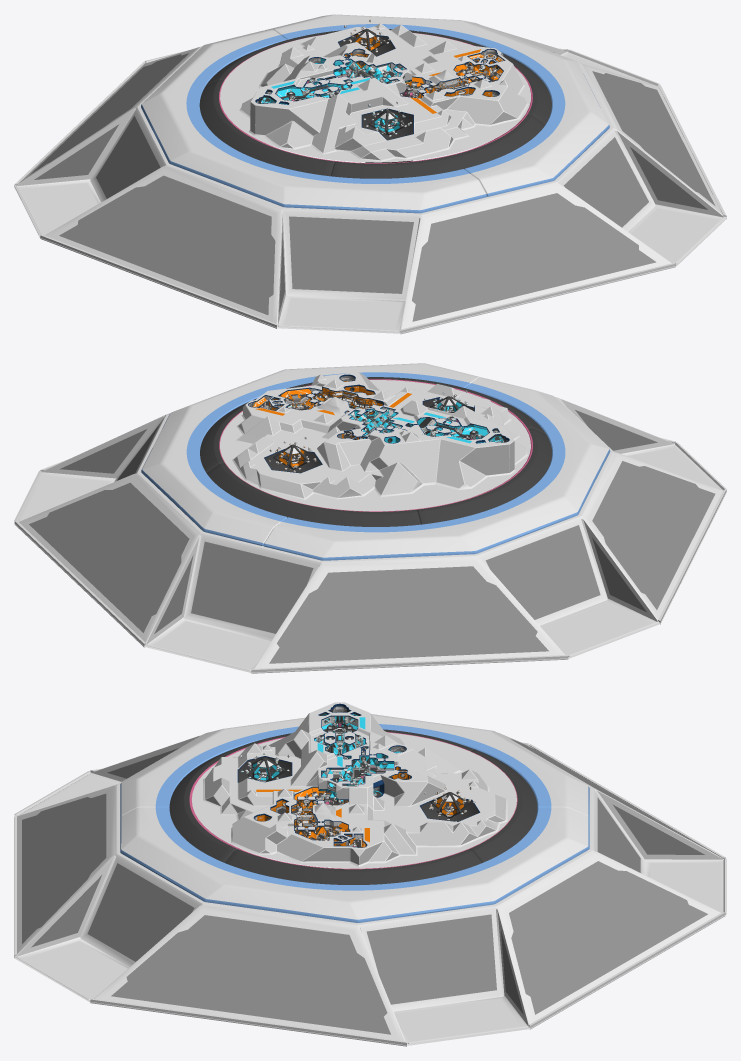
Rendered from Surge_Minimap.fbx.
The picture shows the model from 3 angles, top to bottom: view 1: azimuth 30°, elevation 25°; view 2: azimuth 150°, elevation 25°; view 3: azimuth 270°, elevation 25°; orthographic projection. The views are drawn at different scales.
Visible parts, largest first — view 1: 4, 6, 2, 64, 58, 66, 0, 3, 60, 69, 5, 65 (+6 smaller); view 2: 4, 6, 2, 64, 58, 3, 66, 0, 69, 60, 5, 65 (+5 smaller); view 3: 4, 6, 2, 58, 64, 3, 66, 0, 69, 60, 5, 65 (+5 smaller).
Part boxes in pixels (left/top/right/bottom): 4: left=29, top=52, right=715, bottom=321; 6: left=14, top=26, right=726, bottom=333; 2: left=142, top=14, right=608, bottom=210; 64: left=241, top=24, right=526, bottom=160; 58: left=220, top=26, right=530, bottom=162; 66: left=199, top=29, right=551, bottom=178; 0: left=141, top=24, right=609, bottom=213; 3: left=21, top=55, right=718, bottom=330; 60: left=14, top=48, right=726, bottom=334; 69: left=239, top=23, right=528, bottom=161; 5: left=137, top=46, right=613, bottom=215; 65: left=255, top=35, right=505, bottom=140; 4: left=29, top=410, right=715, bottom=663; 6: left=14, top=397, right=726, bottom=672; 2: left=142, top=363, right=608, bottom=557; 64: left=234, top=372, right=525, bottom=498; 58: left=220, top=372, right=530, bottom=511; 3: left=21, top=447, right=716, bottom=668; 66: left=200, top=377, right=551, bottom=526; 0: left=141, top=372, right=610, bottom=560; 69: left=232, top=372, right=528, bottom=499; 60: left=14, top=438, right=726, bottom=673; 5: left=137, top=397, right=613, bottom=562; 65: left=248, top=374, right=509, bottom=473; 4: left=22, top=739, right=707, bottom=1034; 6: left=14, top=733, right=726, bottom=1045; 2: left=121, top=714, right=588, bottom=919; 58: left=192, top=702, right=516, bottom=868; 64: left=205, top=711, right=505, bottom=864; 3: left=23, top=776, right=720, bottom=1041; 66: left=169, top=729, right=537, bottom=884; 0: left=120, top=724, right=589, bottom=922; 69: left=203, top=713, right=507, bottom=866; 60: left=14, top=744, right=725, bottom=1046; 5: left=116, top=748, right=593, bottom=924; 65: left=237, top=703, right=480, bottom=847.
Size of the model in its own units: 912 by 171 by 868.
